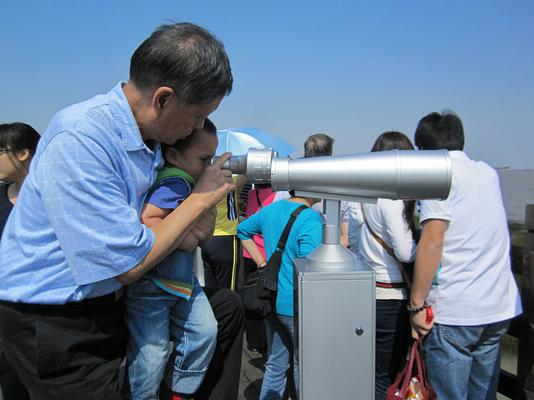person: (129, 114, 223, 400)
